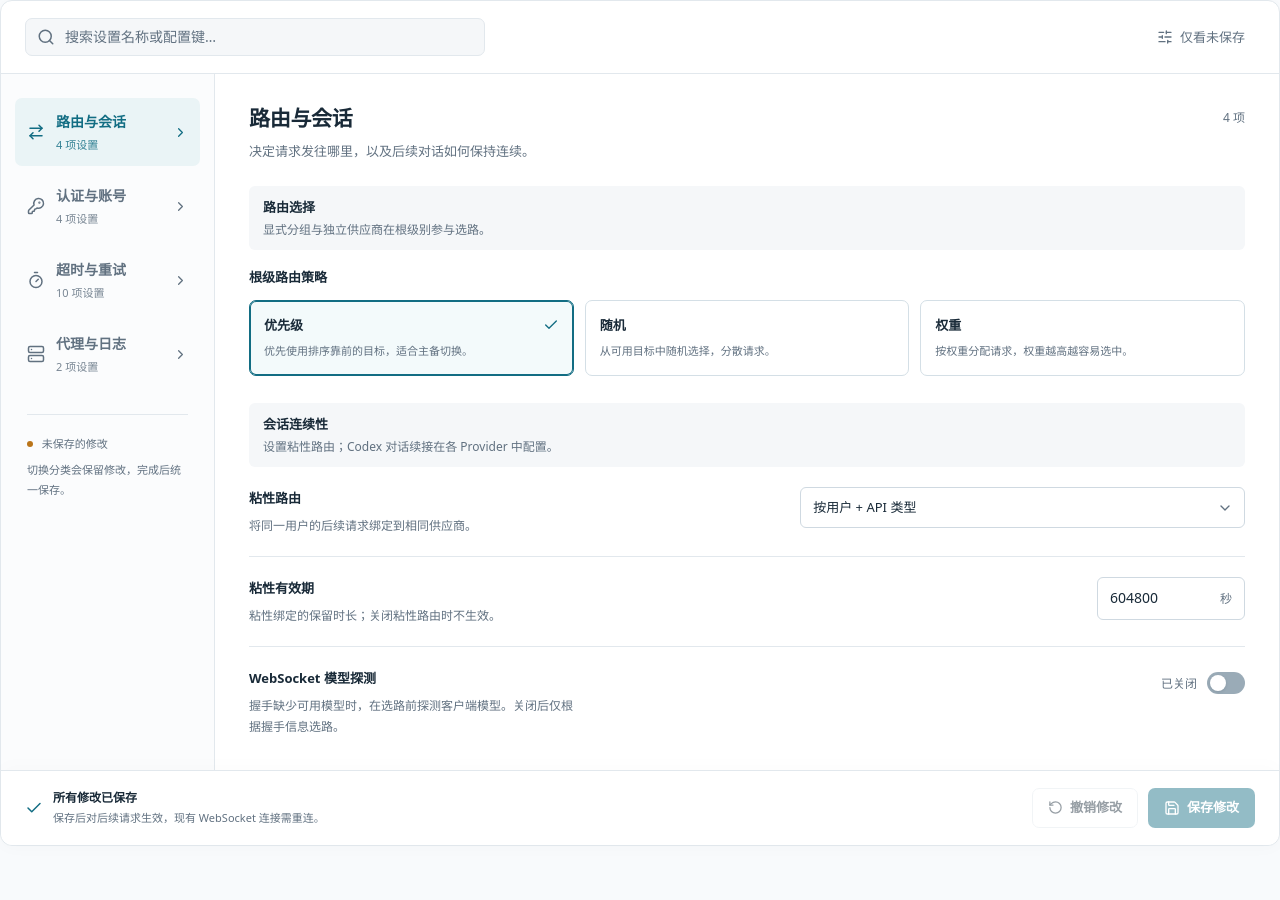
it: ConfigForm › loads a saved Switch-A GPT client mode
Click the button "认证与账号 4 项设置": {"x": 108, "y": 206} [15, 172, 200, 240]
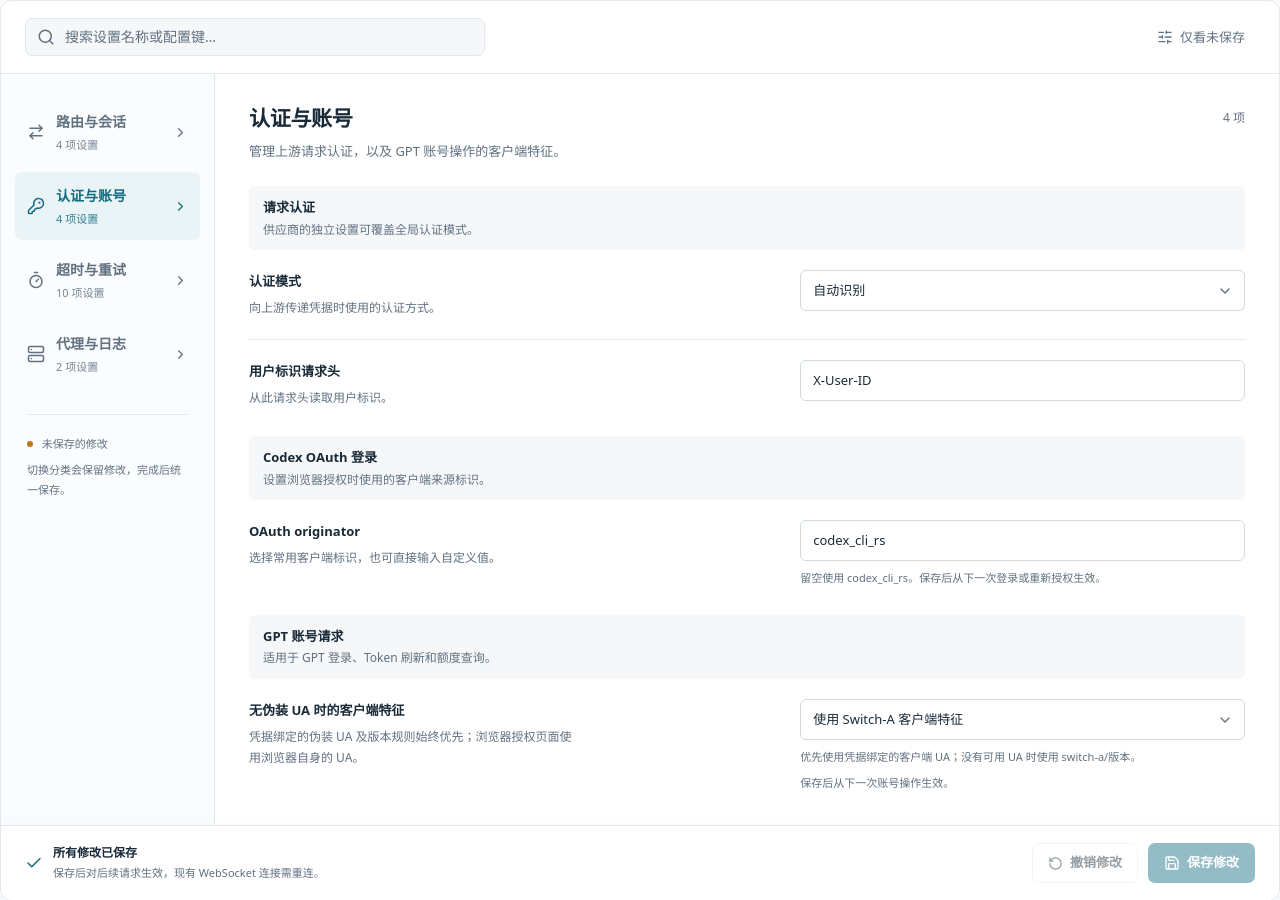
Expected: the dropdown labelled "无伪装 UA 时的客户端特征" shows "使用 Switch-A 客户端特征", [800, 698, 1245, 740]
